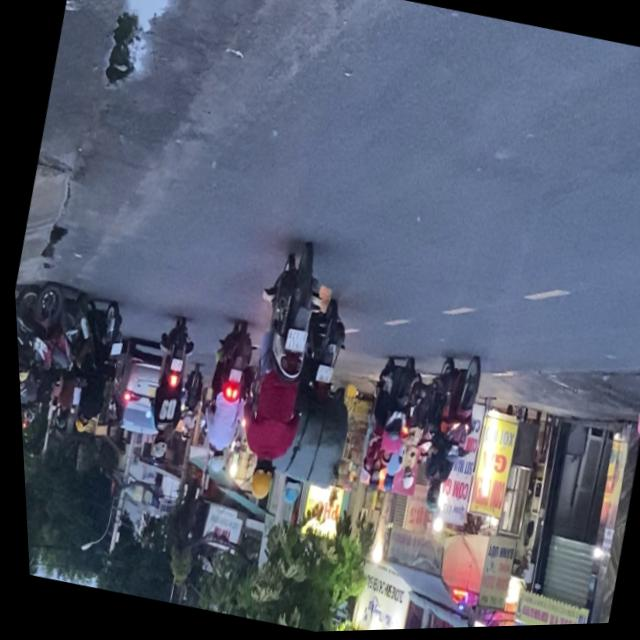helmet: (239, 458, 273, 503), (416, 482, 439, 516), (274, 480, 296, 508)
licenseplate: (211, 238, 339, 508), (259, 296, 375, 518), (396, 349, 489, 522)
nohelmet: (279, 328, 303, 354), (309, 366, 329, 387)
